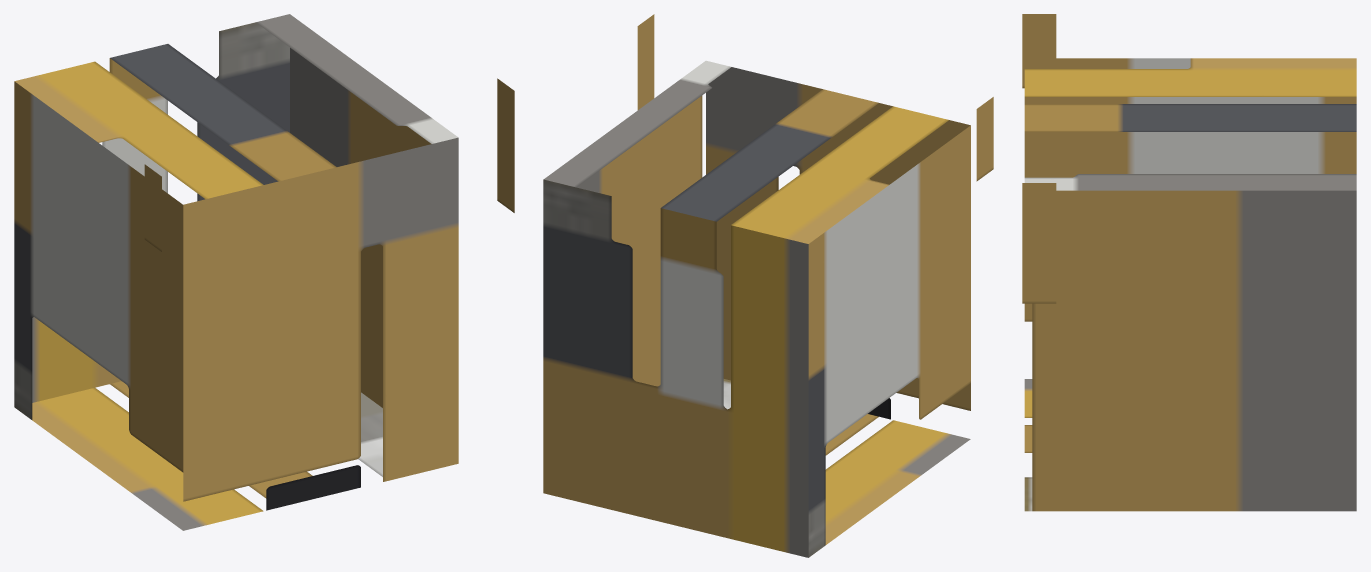
The model's file is section-8.obj.
3 views of the same model, side by side, from view 1: azimuth 30°, elevation 25°; view 2: azimuth 150°, elevation 25°; view 3: azimuth 270°, elevation 25° (orthographic). The views are drawn at different scales.
Size of the model in its own units: 0.9759 by 1.01 by 0.8153.
